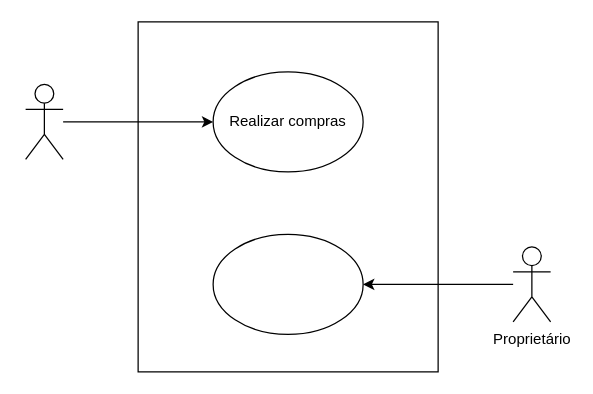
The diagram is 593 pixels wide and 394 high, and some of its shapes have lost their labels. Each missing label, with the box of its shape:
Cliente: (24, 83, 63, 159)
Visualizar extrato de venda: (212, 233, 363, 334)
